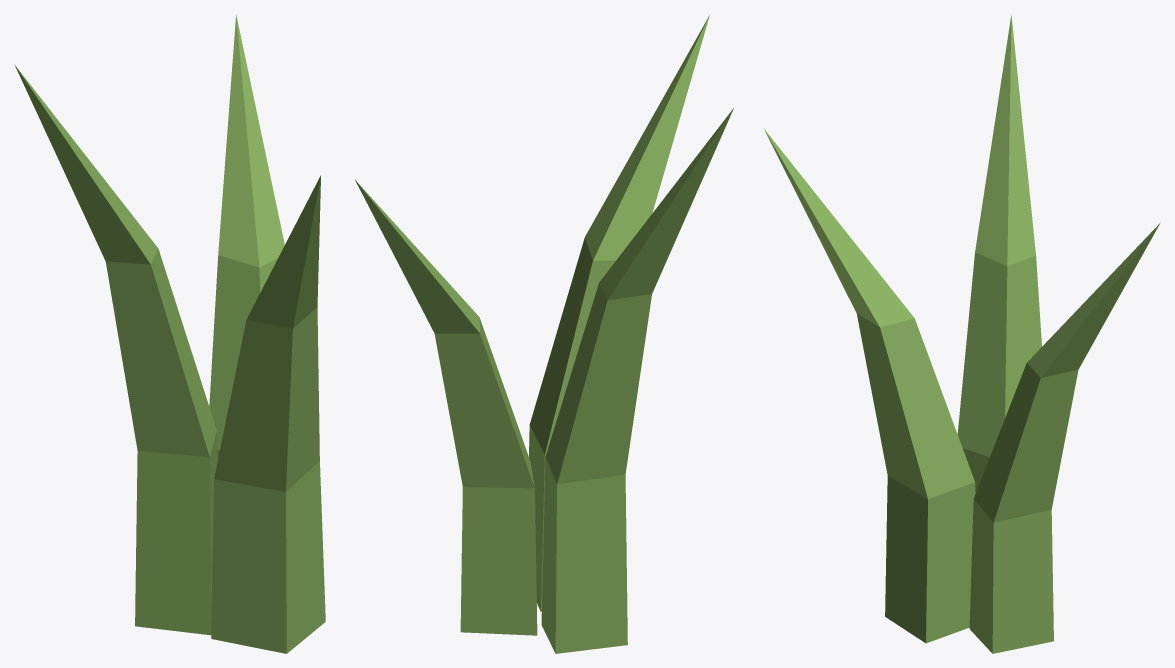
The model's file is Grass_01.fbx.
3 renders of one model, left to right at view 1: azimuth 30°, elevation 25°; view 2: azimuth 150°, elevation 25°; view 3: azimuth 270°, elevation 25°, orthographic. The views are drawn at different scales.
Visible parts, largest first — view 1: Grass_01; view 2: Grass_01; view 3: Grass_01.
Part boxes in pixels (left/top/right/bottom): Grass_01: left=14, top=14, right=325, bottom=653; Grass_01: left=355, top=15, right=733, bottom=653; Grass_01: left=764, top=14, right=1159, bottom=653.
Bounding box in the file's own units: 23.88 × 43.62 × 30.43.
